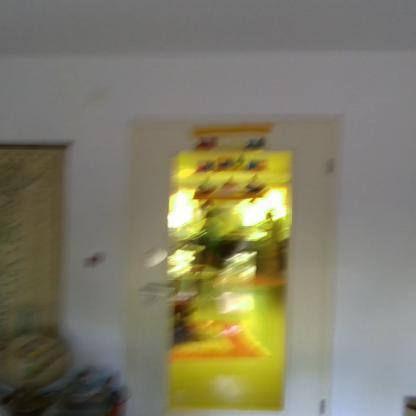door: (140, 124, 326, 416)
hinged: (326, 157, 336, 177), (318, 398, 326, 416)
lever: (136, 284, 176, 302)
